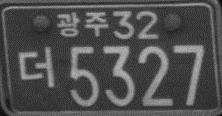2: (138, 45, 174, 106), (136, 9, 160, 41)
3: (102, 45, 135, 107), (111, 10, 136, 39)
5: (69, 45, 99, 108)
7: (170, 43, 204, 106)
광주_O: (55, 11, 108, 38)
더: (16, 46, 56, 88)
